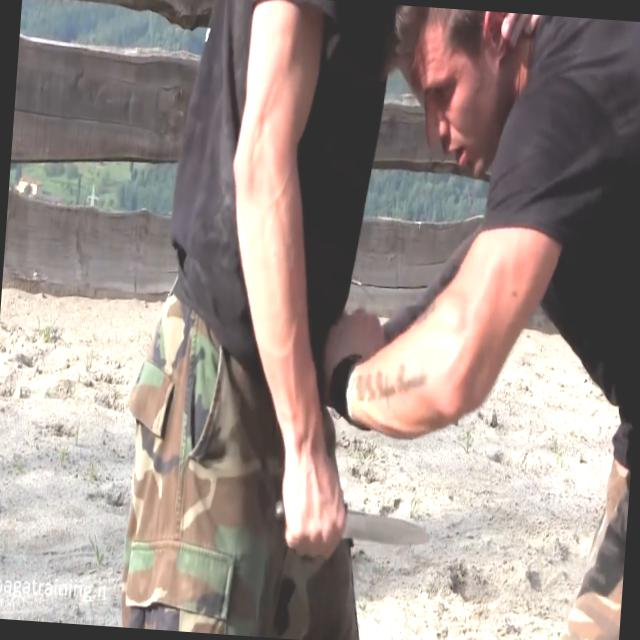knife: (267, 478, 440, 571)
